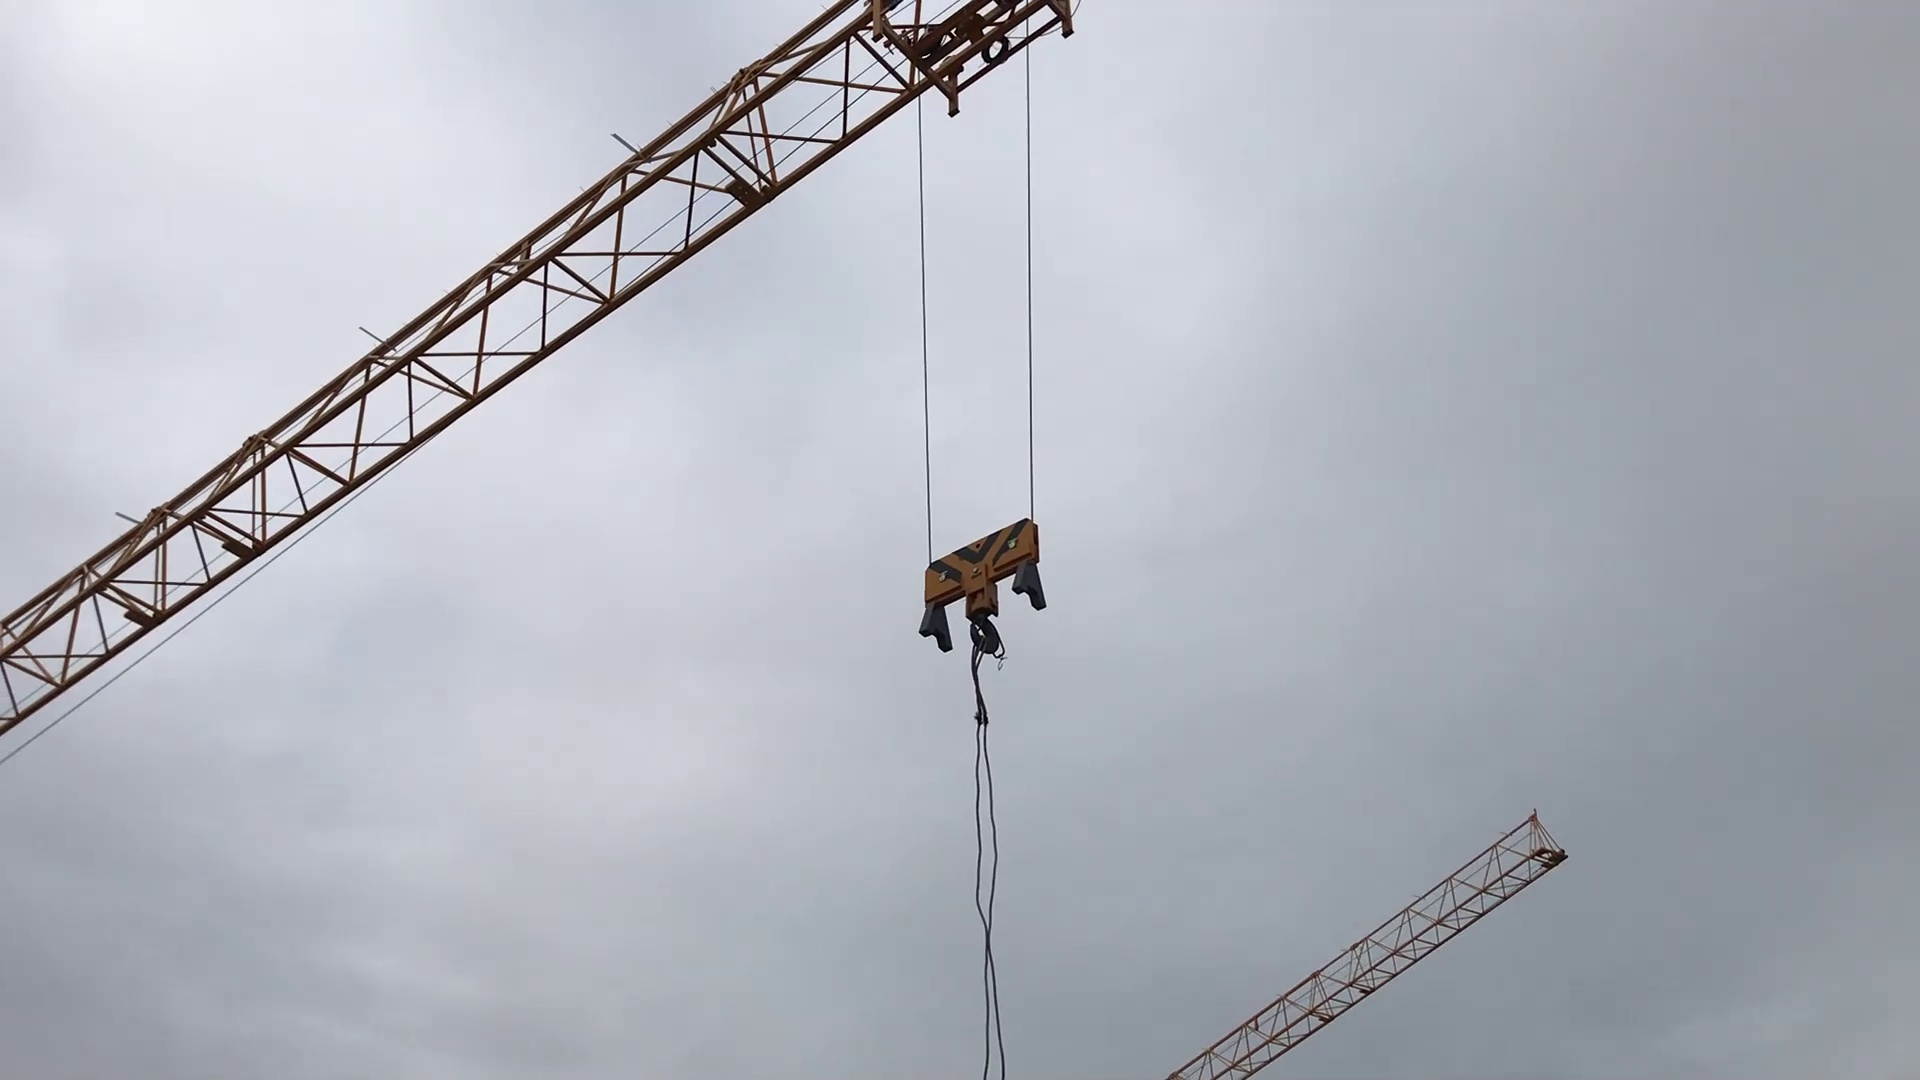hook: (913, 512, 1064, 692)
